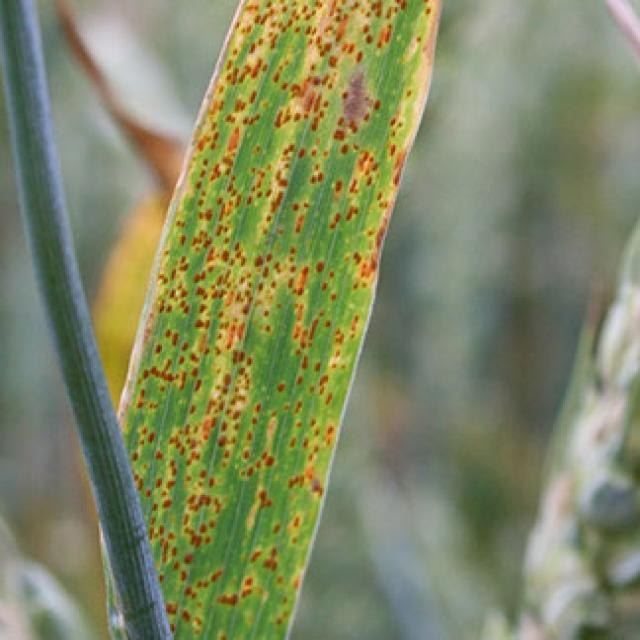leaf rust: (116, 2, 428, 424), (146, 500, 314, 640), (136, 426, 328, 499)
